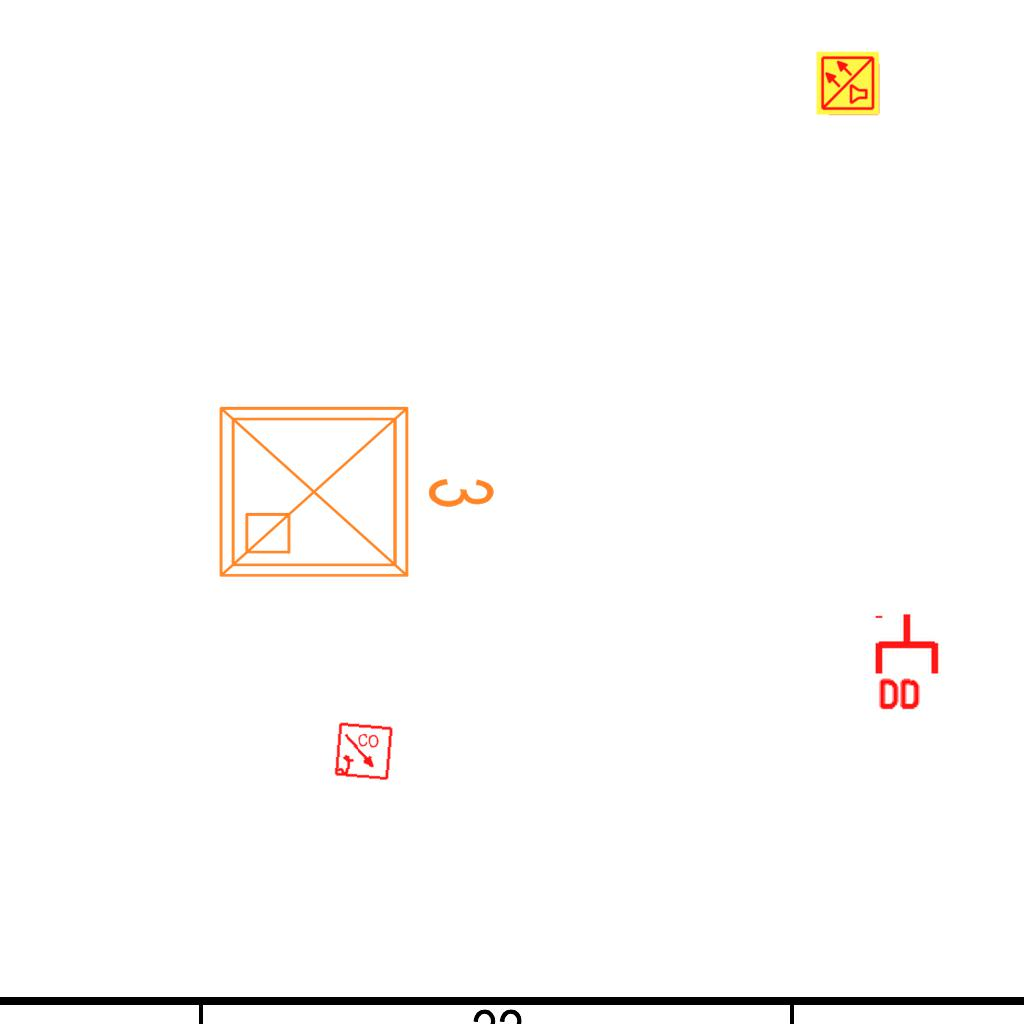Datenanschluss_zweifach: (874, 611, 943, 714)
Einbaudownlights_LED_Konferenzraeume: (205, 384, 505, 592)
OKW_Multisensormelder_(Kombination_optischer_Rauch-Kahlenmonoxid_Waerme-Melder): (815, 50, 881, 116)
ROA_Rauchmelder_optisch_mit_Signalgeber_(Sockelsirene): (333, 721, 395, 783)
